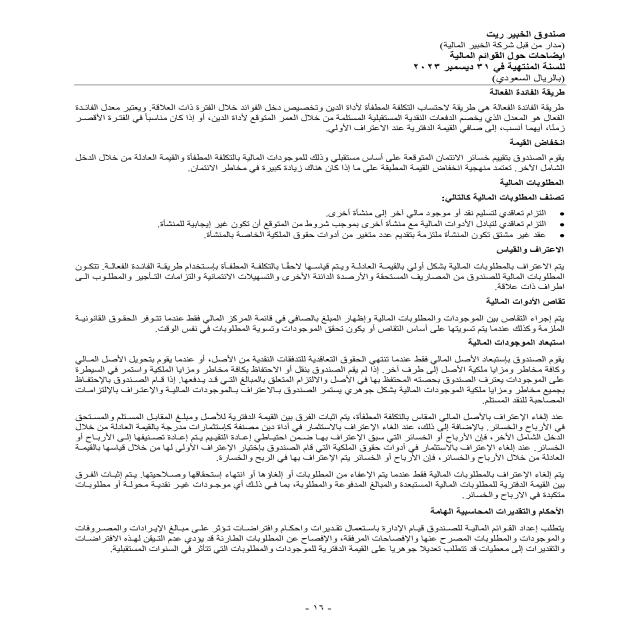notes: (442, 51, 578, 62)
text: (38, 86, 574, 574)
